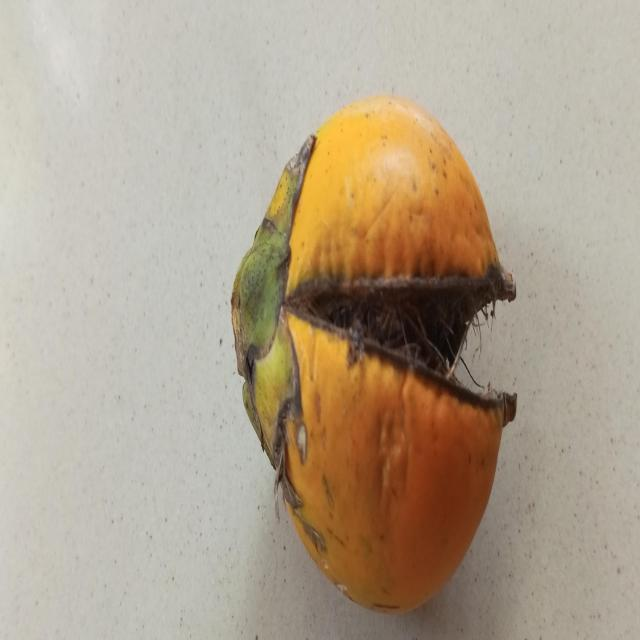damaged: (232, 94, 516, 611)
